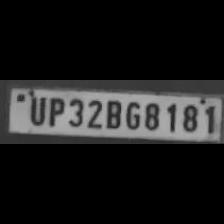1: (200, 100, 220, 134), (160, 101, 178, 133)
2: (84, 97, 103, 129)
3: (64, 95, 84, 127)
8: (178, 102, 200, 132), (141, 100, 161, 132)
B: (102, 98, 122, 130)
G: (122, 99, 142, 131)
P: (44, 96, 64, 127)
U: (25, 94, 47, 125)
